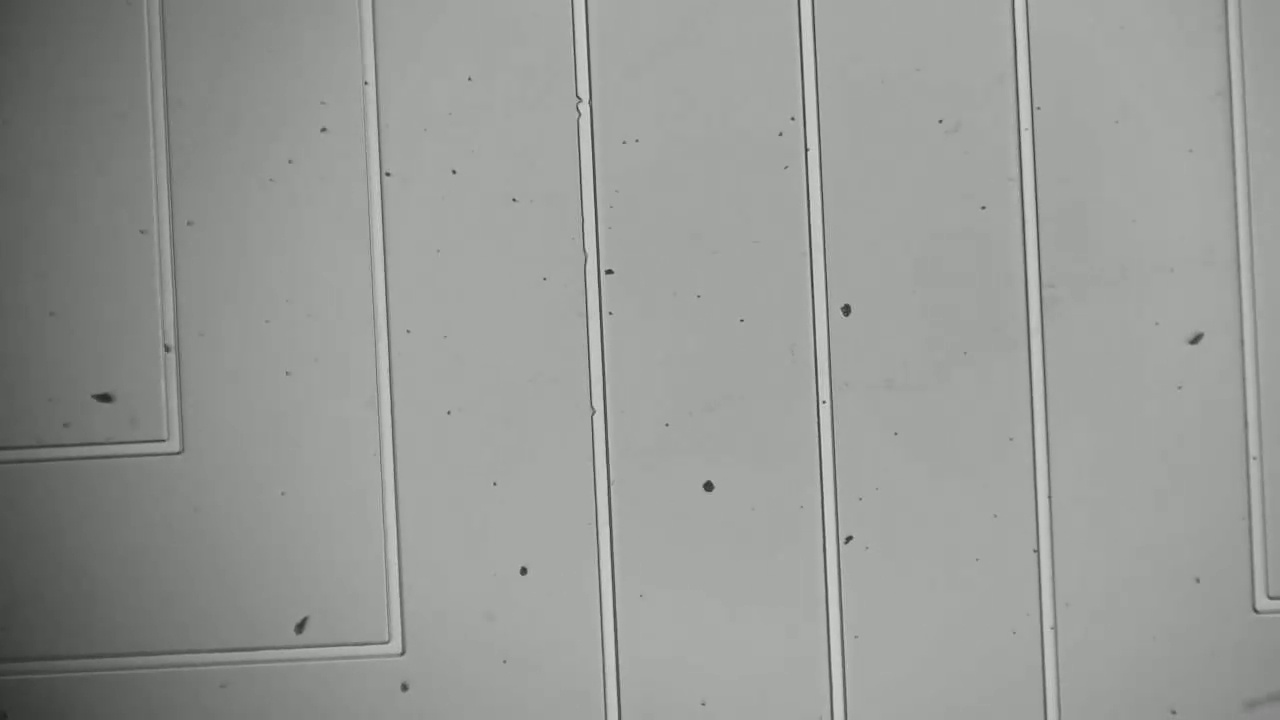edge_bite: (563, 91, 604, 130), (577, 244, 609, 274), (586, 402, 612, 426)
